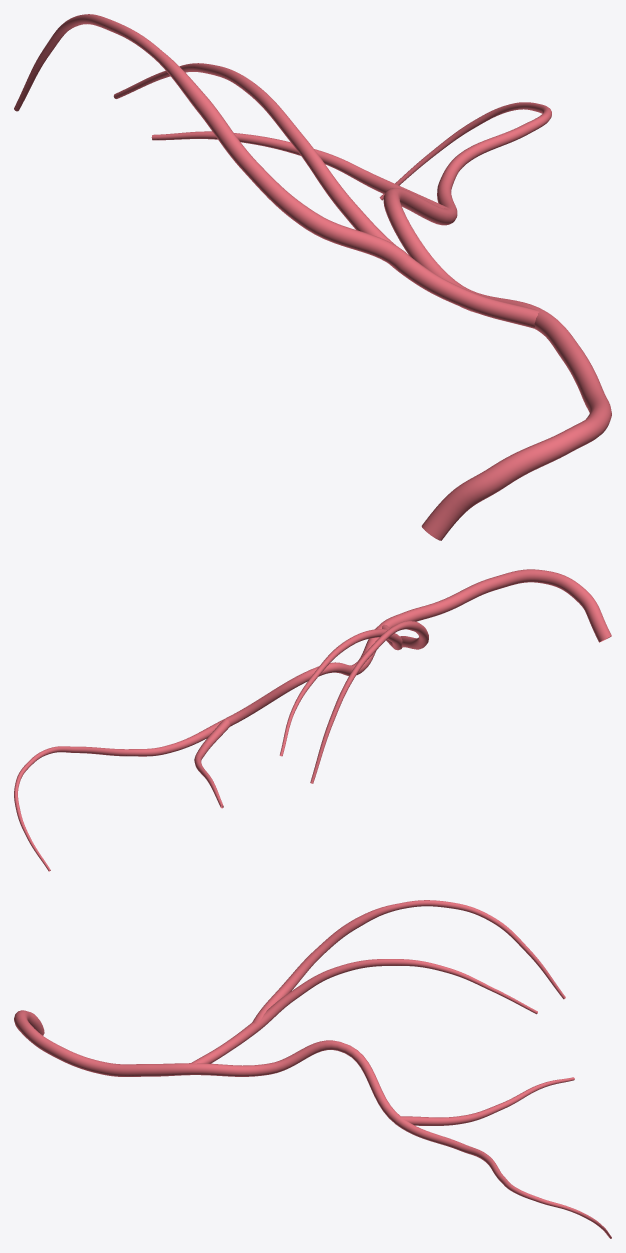
3 renders of one model, top to bottom at view 1: azimuth 30°, elevation 25°; view 2: azimuth 150°, elevation 25°; view 3: azimuth 270°, elevation 25°, orthographic. The views are drawn at different scales.
Parts seen in each view (by area): view 1: ZA_b70459c528ffb154; view 2: ZA_b70459c528ffb154; view 3: ZA_b70459c528ffb154.
Boxes of the visible parts, <box> form: ZA_b70459c528ffb154: <box>14,14,611,540</box>; ZA_b70459c528ffb154: <box>14,569,611,871</box>; ZA_b70459c528ffb154: <box>14,900,611,1238</box>.
Size of the model in its own units: 0.0463 by 0.0308 by 0.0748.
